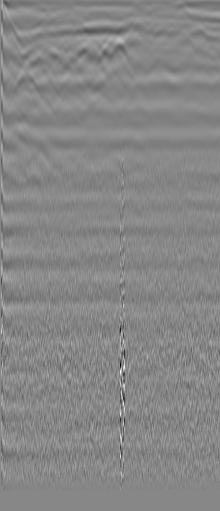오수: (27, 25, 47, 45)
우수: (171, 31, 191, 51)
